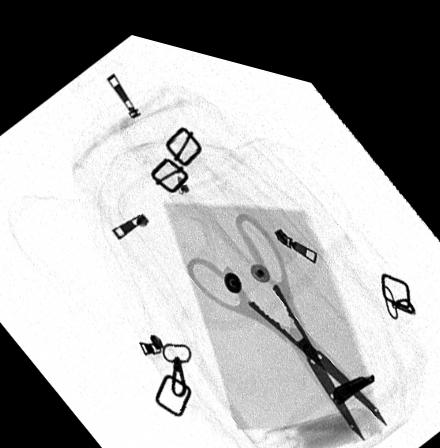Scissors: (185, 198, 390, 424)
